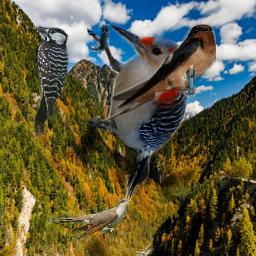Cuckoo: (48, 198, 131, 240)
Swallow: (98, 24, 216, 121)
Woodpecker: (87, 24, 190, 201), (32, 24, 71, 136)
